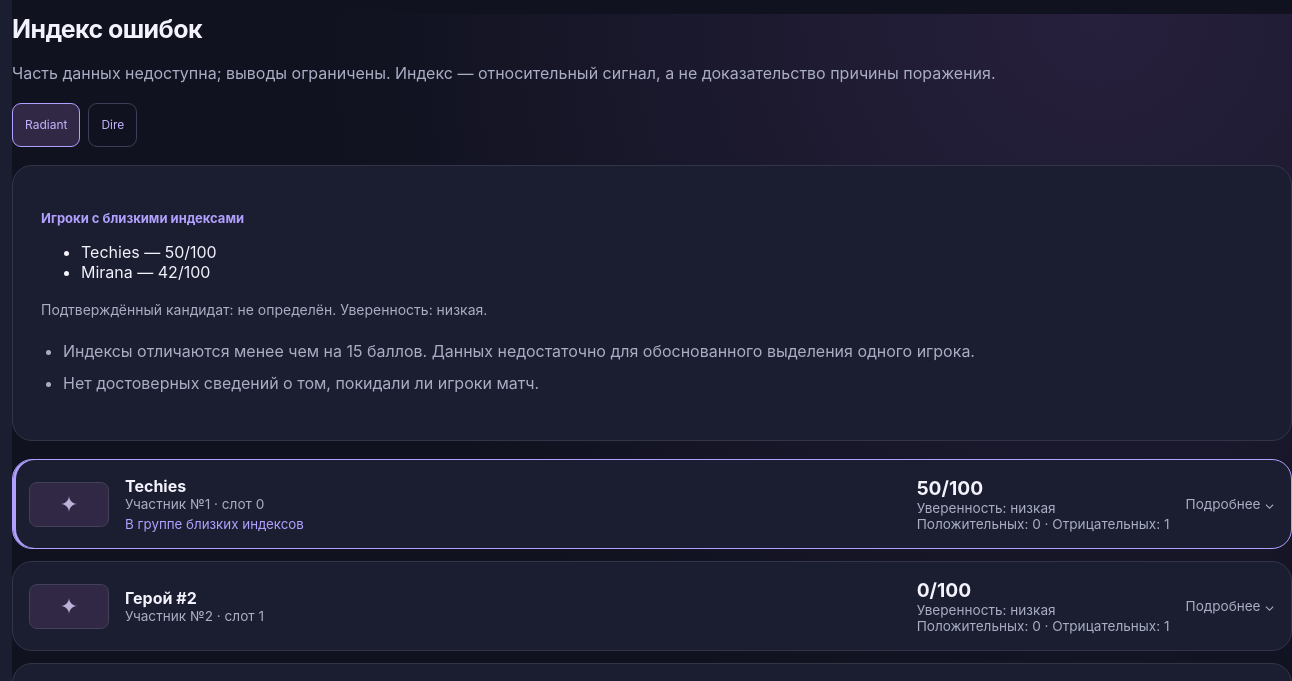
Test case: shows a group with equal highlights and switches to a single Dire leader by slot
Expected: the heading "Игроки с близкими индексами" is shown, x1=41 y1=210 x2=244 y2=226
Click the button "Dire".
click(113, 125)  # box x1=88 y1=103 x2=137 y2=147
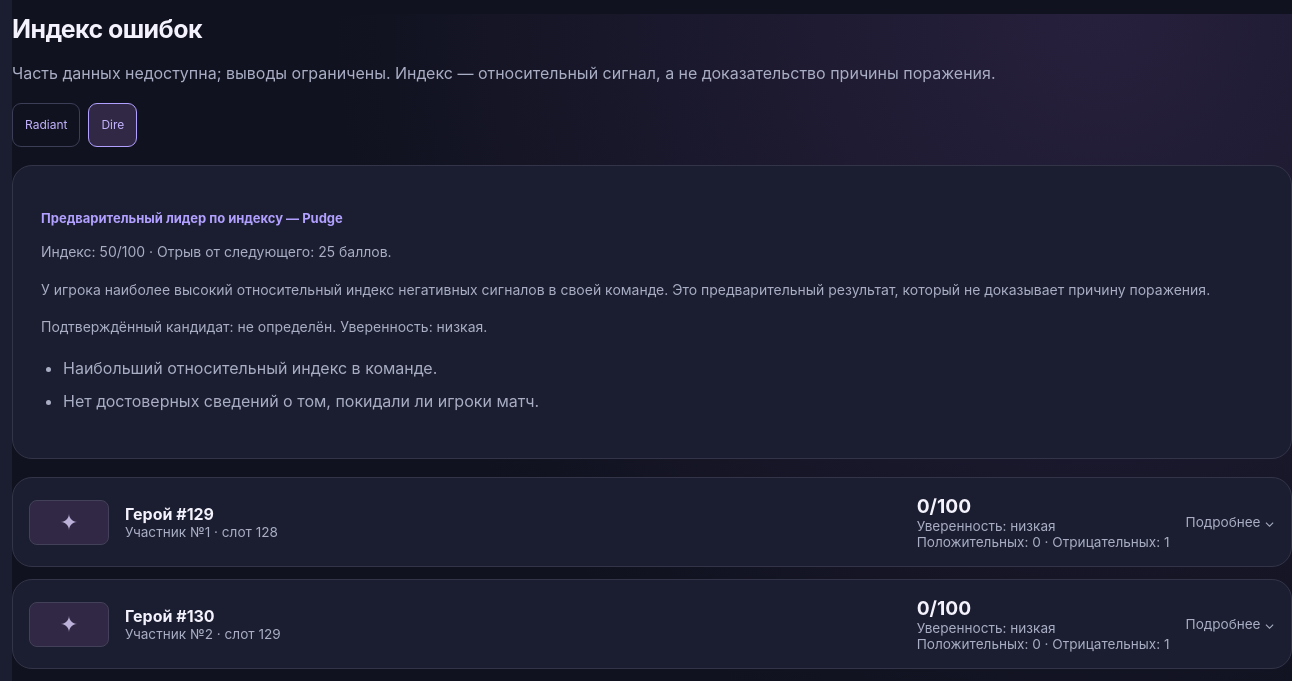
Expected: the text "Подтверждённый кандидат: не определён. Уверенность: низкая." is shown, x1=41 y1=318 x2=487 y2=335
Expected: the heading "Предварительный лидер по индексу — Pudge" is shown, x1=41 y1=210 x2=343 y2=226
Expected: the text "Индекс: 50/100 · Отрыв от следующего: 25 баллов." is shown, x1=41 y1=243 x2=392 y2=260
